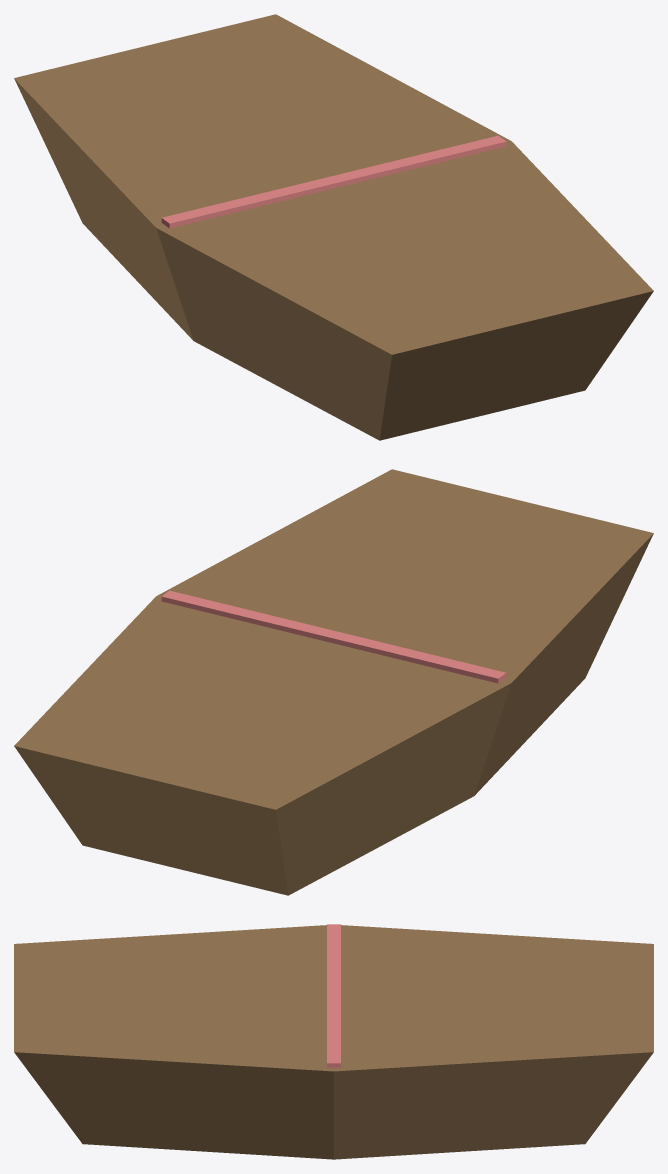
Rendered from shared-rowboat.glb.
3 views of the same model, one above another, from view 1: azimuth 30°, elevation 25°; view 2: azimuth 150°, elevation 25°; view 3: azimuth 270°, elevation 25° (orthographic). The views are drawn at different scales.
Parts seen in each view (by area): view 1: shared-rowboat; view 2: shared-rowboat; view 3: shared-rowboat.
Boxes of the visible parts, box(x1,y1,x2,y2) form: shared-rowboat: box(14, 14, 653, 440); shared-rowboat: box(14, 469, 653, 895); shared-rowboat: box(14, 924, 653, 1159).
Bounding box in the file's own units: 0.76 × 0.26 × 1.4.
